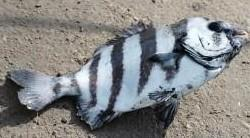fish: (8, 17, 246, 128)
